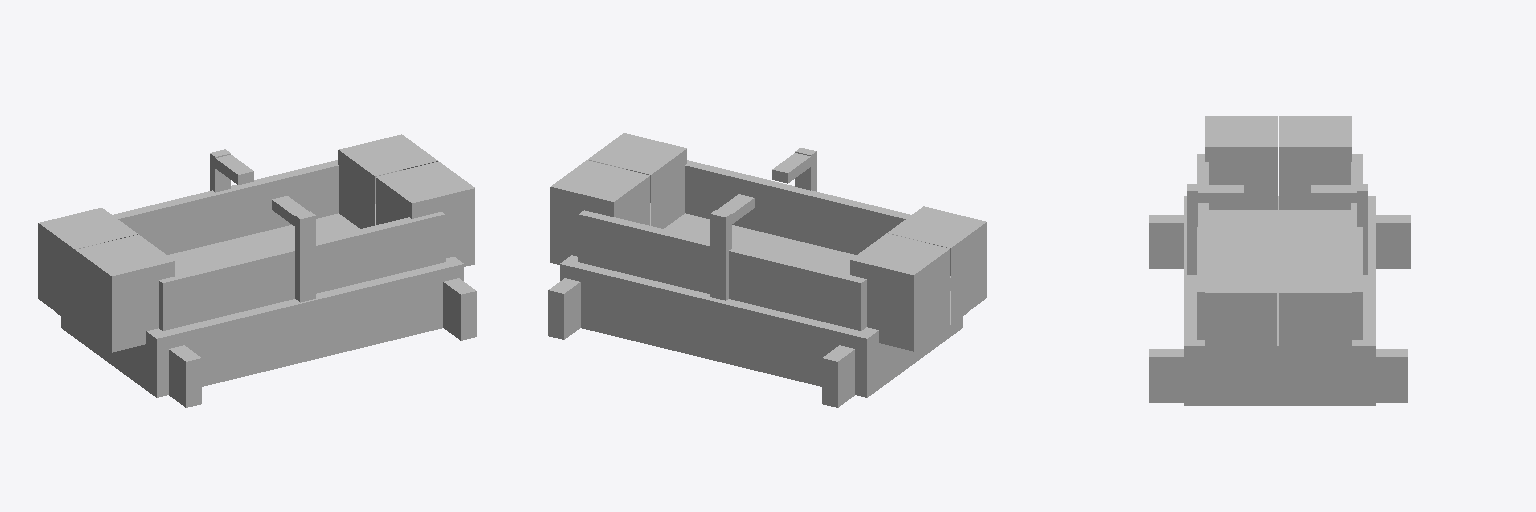
The model's file is ability_developer.obj.
The picture shows the model from 3 angles: view 1: azimuth 30°, elevation 25°; view 2: azimuth 150°, elevation 25°; view 3: azimuth 270°, elevation 25°; orthographic projection.
Visible parts, largest first — view 1: Box001; view 2: Box001; view 3: Box001.
Part boxes in pixels (left/top/right/bottom): Box001: left=38, top=134, right=476, bottom=407; Box001: left=548, top=133, right=986, bottom=407; Box001: left=1149, top=116, right=1410, bottom=405.
Bounding box in the file's own units: 137 × 51.2 × 85.24.